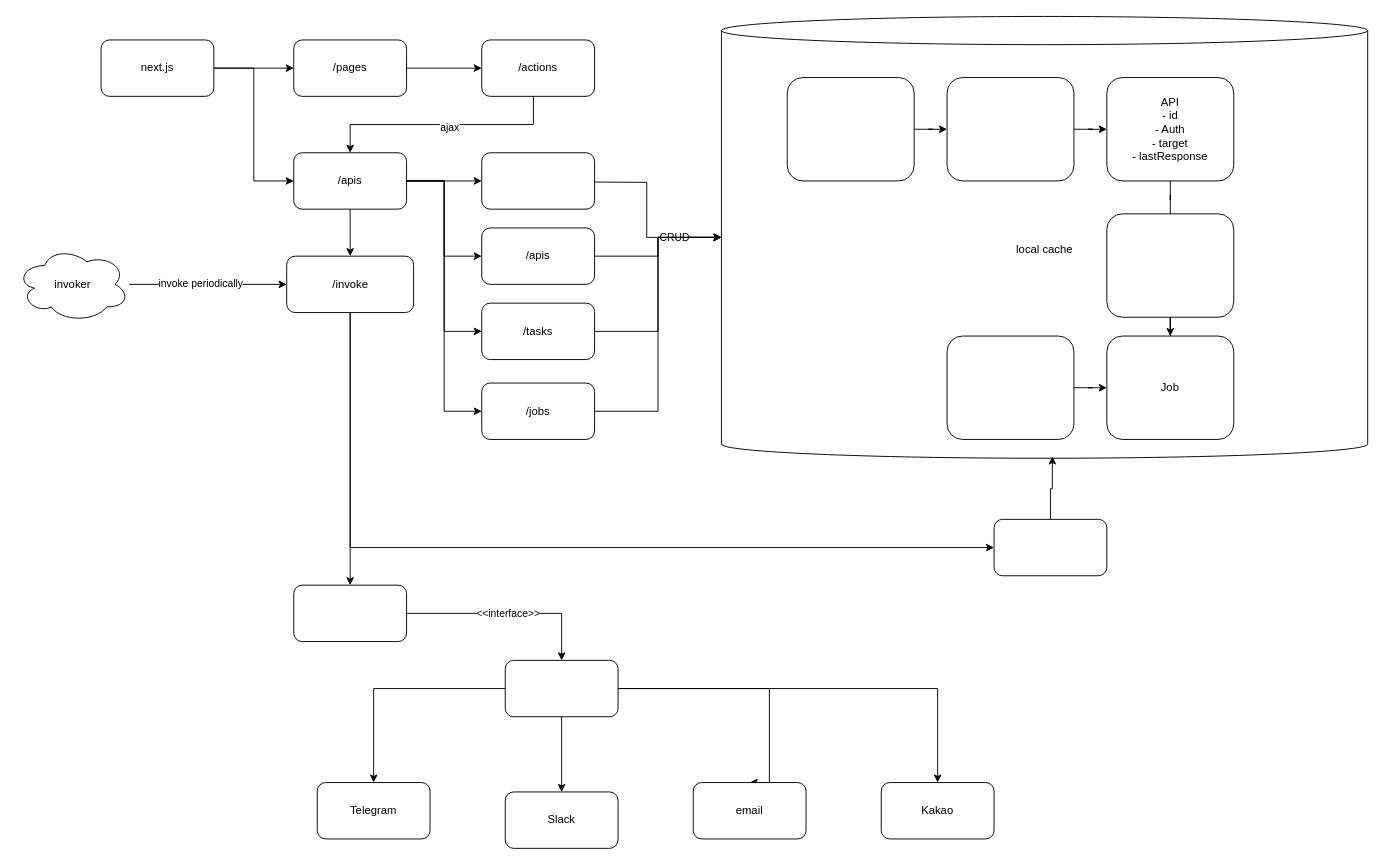
Image size: 1385x865. Some labels were removed from this diagram. Each missing label, with the centre of its shape:
"/services" goes at point 538,180.
"APIS" goes at point 1010,129.
"JobHistory" goes at point 1010,387.
"NotificationService" goes at point 350,613.
"notify" goes at point 561,688.
"Service" goes at point 850,129.
"Task - id - lastResponse - lastupdated" goes at point 1170,265.
"UpdateService" goes at point 1050,547.
